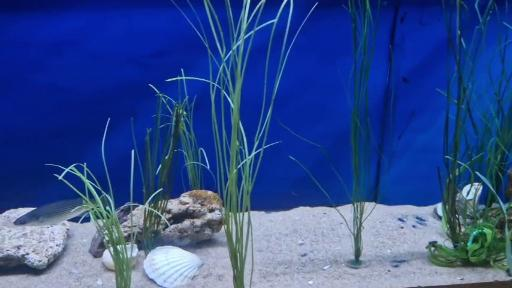Fish: (14, 198, 88, 226)
